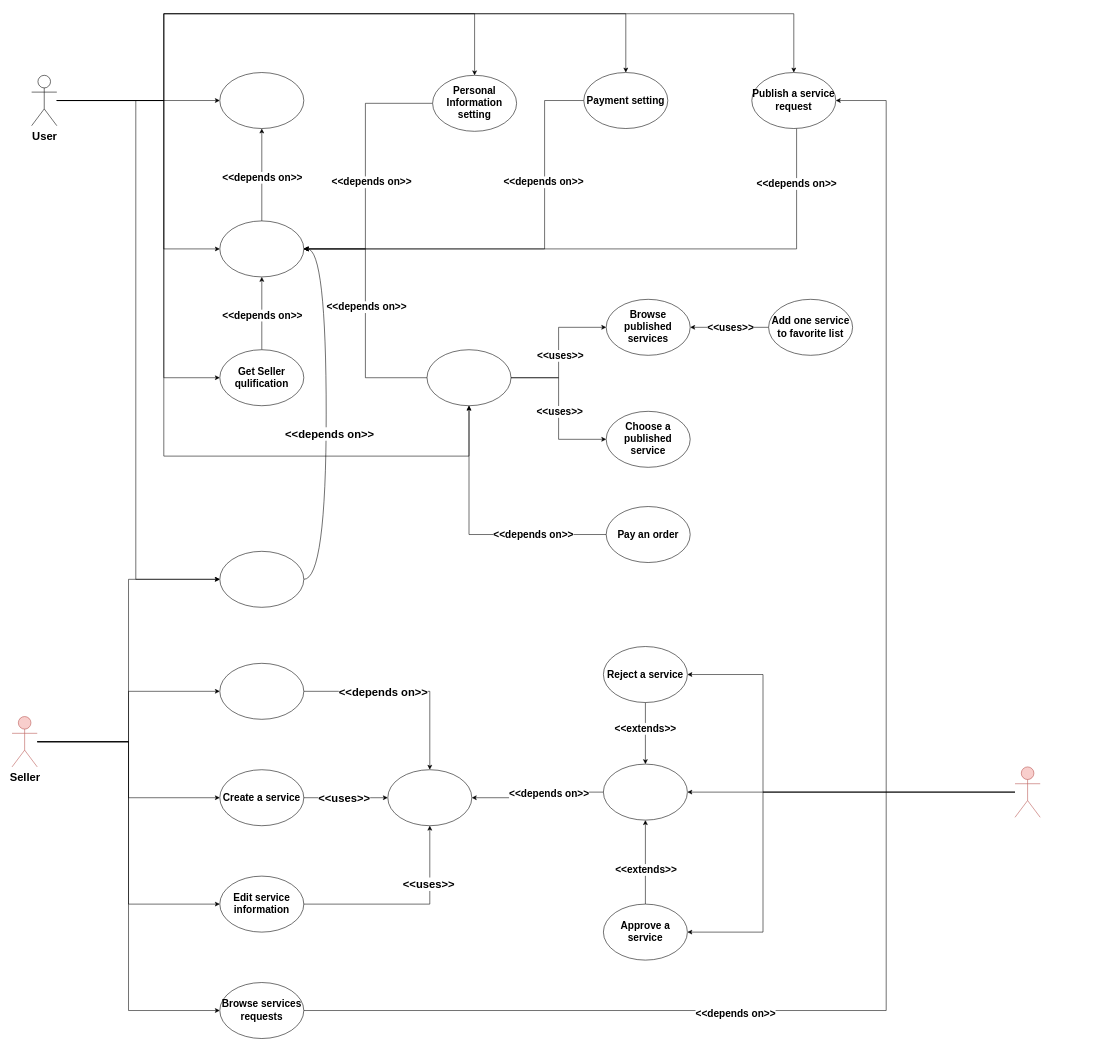
This 1104x1048 diagram has some shape labels left out. The shapes that lost their labels are listed below. From the top down, each one's box as (x1, y1, x2, y2) in pixels, then its label:
(219, 72, 304, 129): Sign up
(219, 220, 304, 277): Sign in
(426, 349, 511, 406): Put an Order
(219, 551, 304, 607): Communicate with the seller/user
(219, 663, 304, 719): Withdraw a service
(387, 769, 472, 826): Publish a service
(603, 764, 687, 820): Review a service
(1014, 766, 1040, 817): System manager/System
